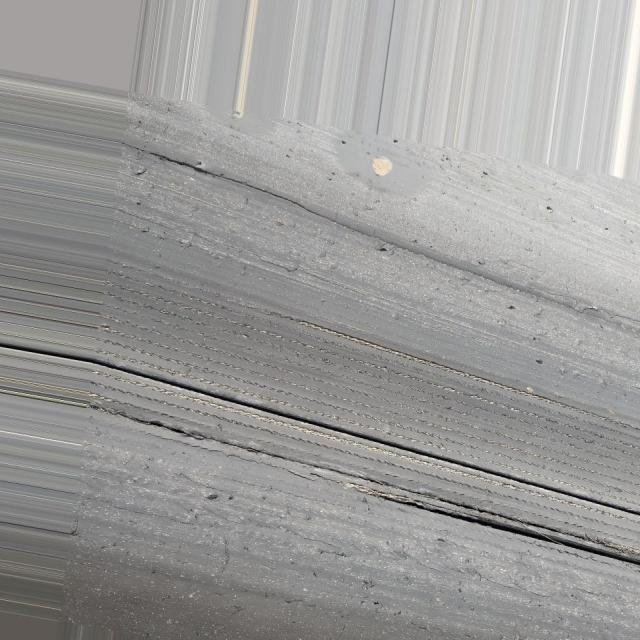Tear: (102, 357, 640, 520), (368, 475, 640, 573), (143, 147, 369, 241)
Wear: (109, 263, 640, 505)
